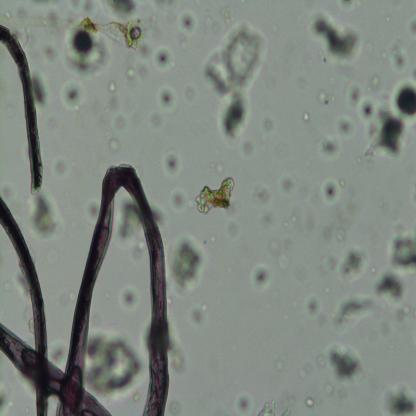Background material: (205, 18, 269, 144), (87, 330, 145, 396), (367, 82, 416, 158), (309, 10, 364, 68), (374, 231, 416, 302), (60, 16, 112, 71), (76, 12, 142, 46), (169, 236, 206, 294), (262, 230, 304, 278), (326, 342, 368, 388), (114, 201, 146, 261), (320, 209, 360, 256), (329, 294, 375, 334), (193, 174, 235, 217), (40, 0, 71, 58), (27, 189, 60, 238), (96, 92, 136, 130), (374, 379, 416, 415), (319, 120, 354, 162), (338, 246, 371, 285), (282, 202, 314, 242), (347, 78, 375, 122), (245, 264, 277, 294), (163, 176, 188, 214), (59, 81, 89, 110), (294, 356, 321, 384), (172, 341, 190, 379), (324, 178, 348, 206), (151, 45, 174, 74), (102, 0, 137, 19), (254, 205, 278, 231), (30, 74, 48, 108), (174, 14, 199, 38), (181, 76, 202, 104), (388, 44, 409, 72), (156, 86, 178, 112), (118, 285, 140, 310), (213, 3, 239, 23), (315, 88, 340, 108), (162, 150, 181, 175), (306, 292, 322, 320), (190, 304, 209, 327), (255, 184, 275, 205), (235, 139, 252, 163), (234, 393, 253, 414), (258, 398, 278, 415), (86, 198, 99, 222), (280, 176, 296, 194), (125, 65, 136, 81), (304, 394, 315, 409), (303, 105, 311, 125), (109, 141, 121, 153), (107, 81, 117, 95), (277, 358, 285, 373)
Cotton: (55, 162, 170, 416), (0, 197, 49, 415), (0, 323, 111, 415), (0, 23, 44, 195)
